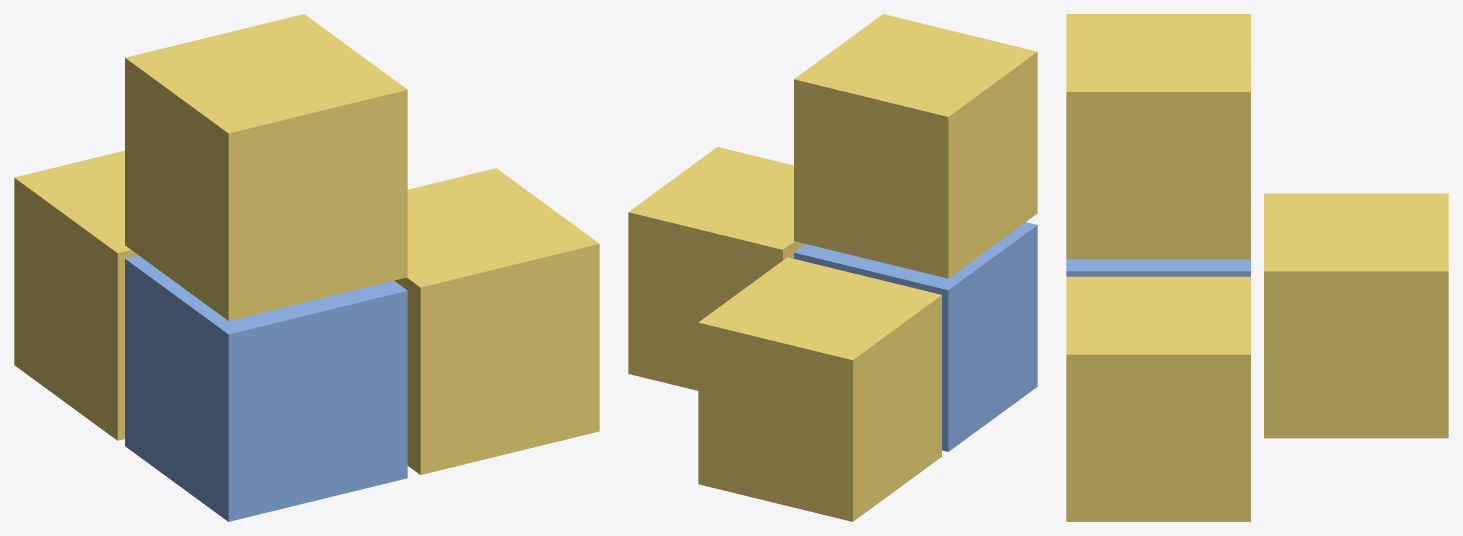
File: pepejal-A.glb
The picture shows the model from 3 angles, left to right: view 1: azimuth 30°, elevation 25°; view 2: azimuth 150°, elevation 25°; view 3: azimuth 270°, elevation 25°; orthographic projection. The views are drawn at different scales.
Visible parts, largest first — view 1: pepejal; view 2: pepejal; view 3: pepejal.
Part boxes in pixels (x1,y1,x2,y2): pepejal: (14,14,599,521); pepejal: (628,14,1037,521); pepejal: (1066,14,1448,521).
Bounding box in the file's own units: 0.116 × 0.116 × 0.116.
